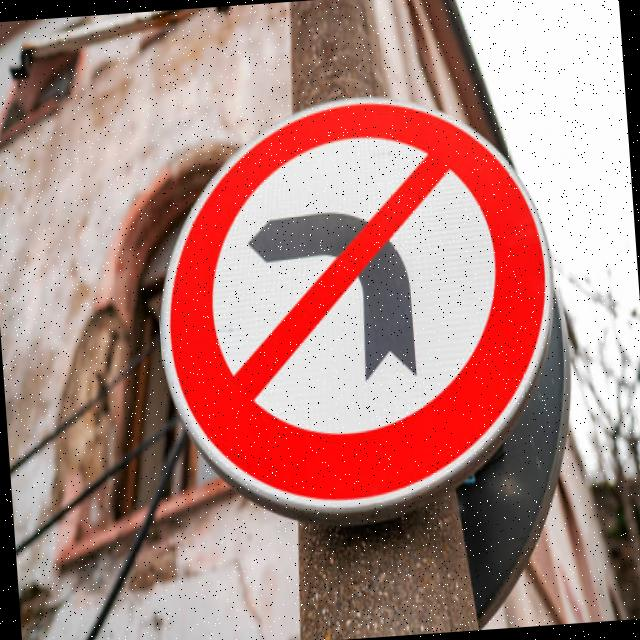do_not_turn_right: (137, 64, 577, 536)
